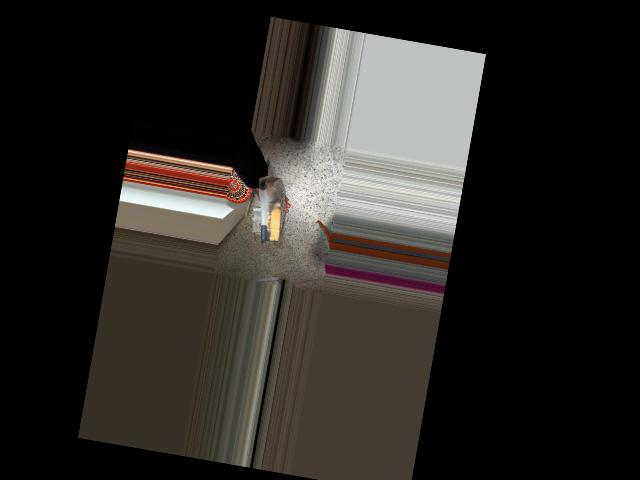cheese: (246, 171, 293, 244)
